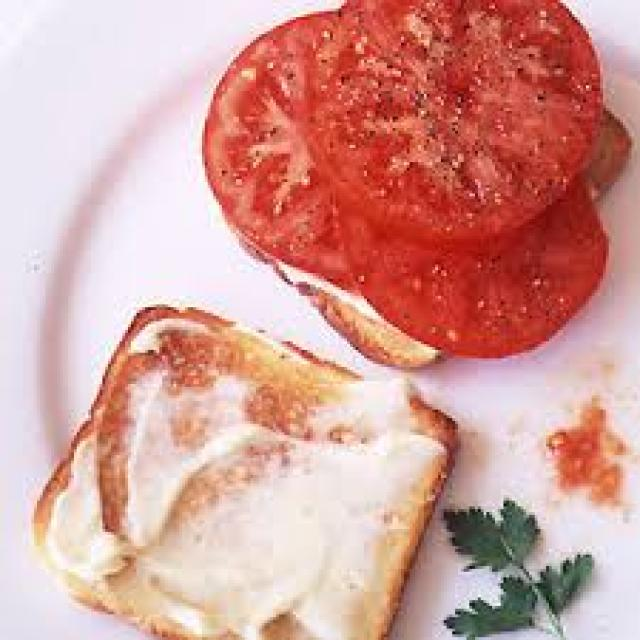Sandwich: (68, 310, 459, 640)
